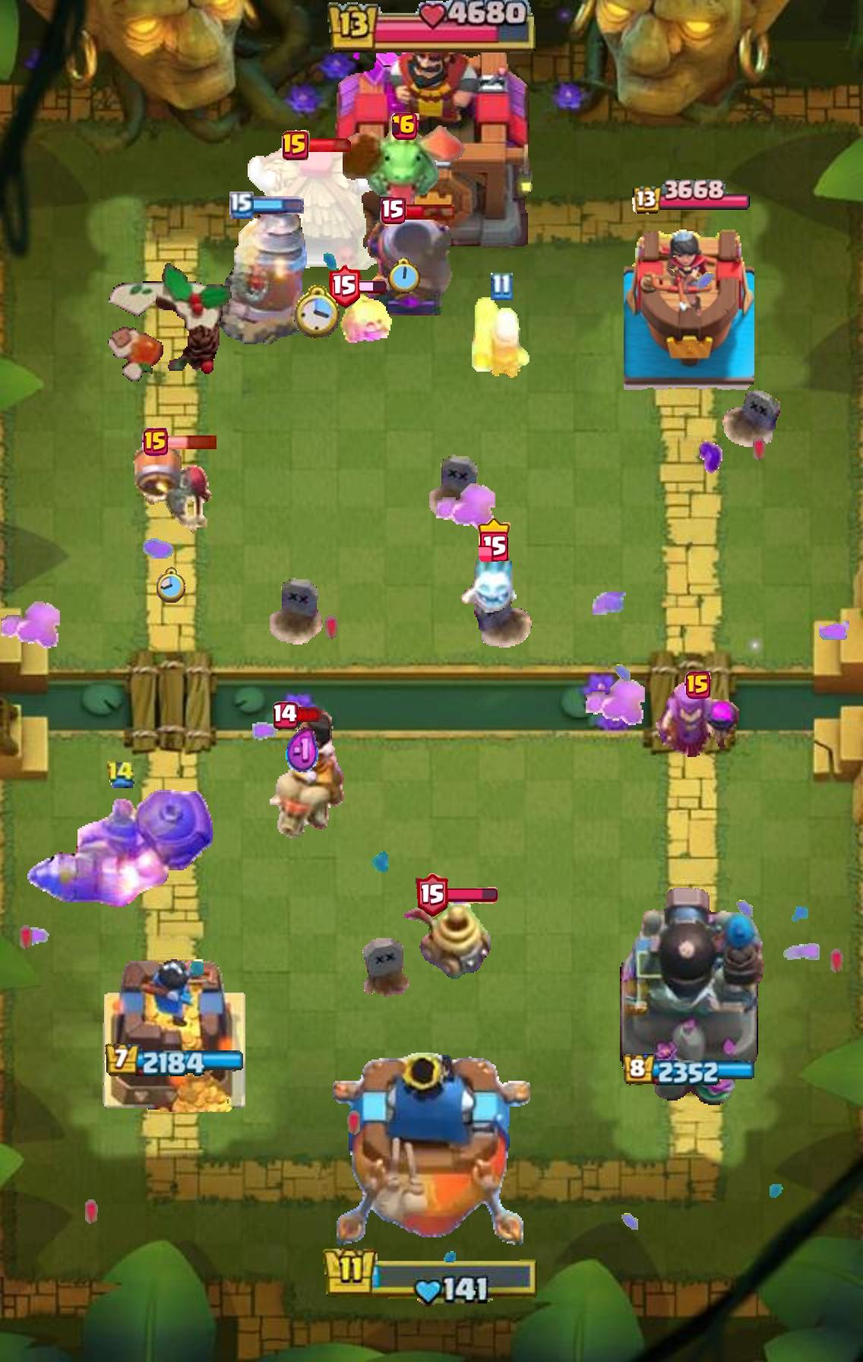elixir: (285, 726, 319, 778)
